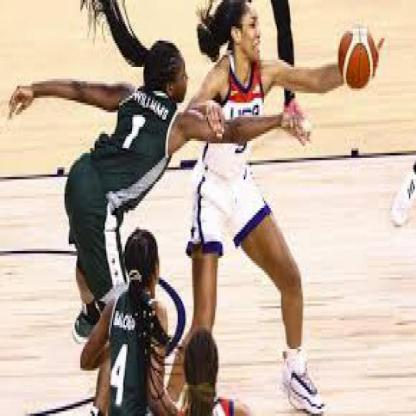basketball: (338, 26, 378, 91)
